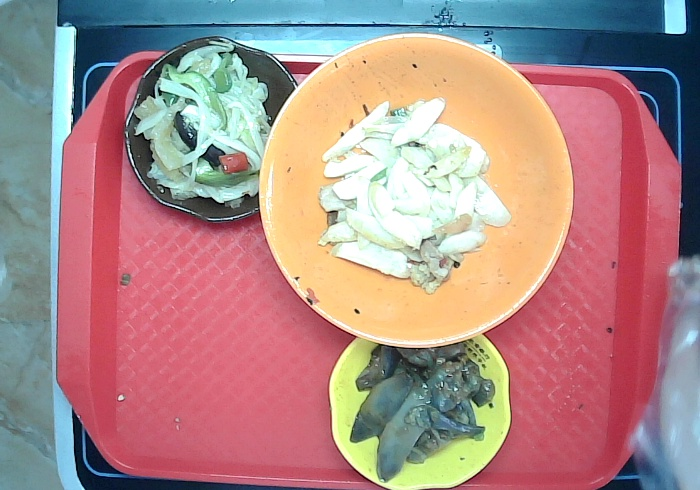YKMZ-Huang_Se_Ao_Bian_Wan: (321, 320, 526, 490)
YKMZ-Ju_Se_Tang_Wan: (258, 38, 579, 350)
YKMZ-Ka_Fei_Ao_Bian_Wan: (118, 37, 305, 229)
